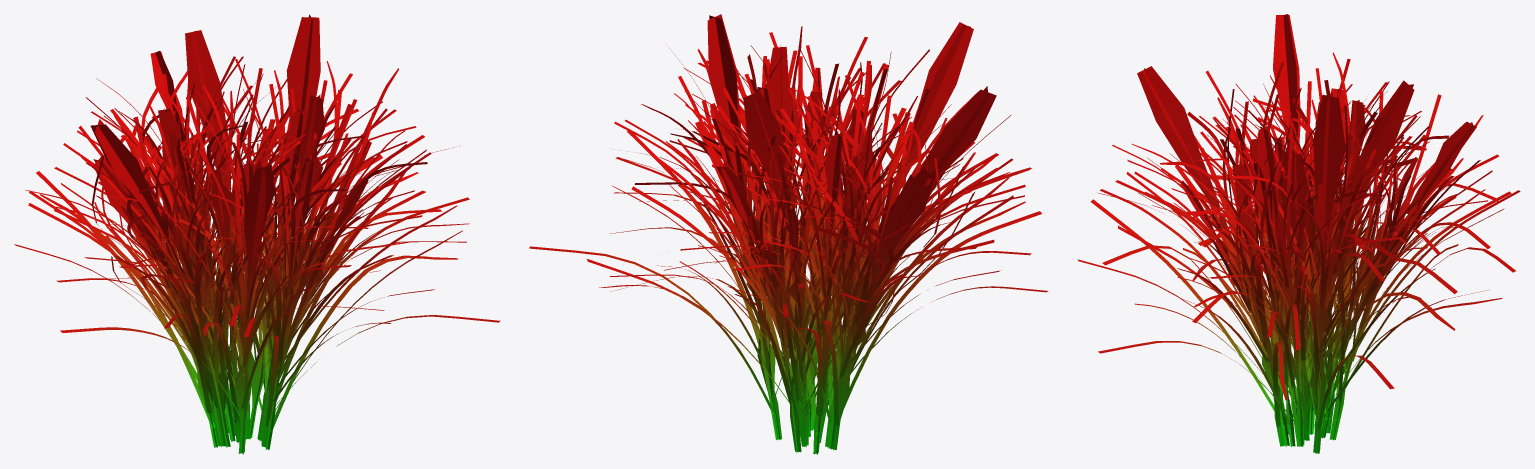
The model's file is Grass_B_Var4.FBX.
The picture shows the model from 3 angles, left to right: view 1: azimuth 30°, elevation 25°; view 2: azimuth 150°, elevation 25°; view 3: azimuth 270°, elevation 25°; orthographic projection. The views are drawn at different scales.
Parts seen in each view (by area): view 1: Grass_B_Var4_LOD0; view 2: Grass_B_Var4_LOD0; view 3: Grass_B_Var4_LOD0.
Part boxes in pixels (x1,y1,x2,y2): Grass_B_Var4_LOD0: (14, 14, 500, 454); Grass_B_Var4_LOD0: (529, 14, 1048, 454); Grass_B_Var4_LOD0: (1077, 14, 1520, 454).
Size of what is drawn, in the model's own units: 79.63 by 70.3 by 73.58.
